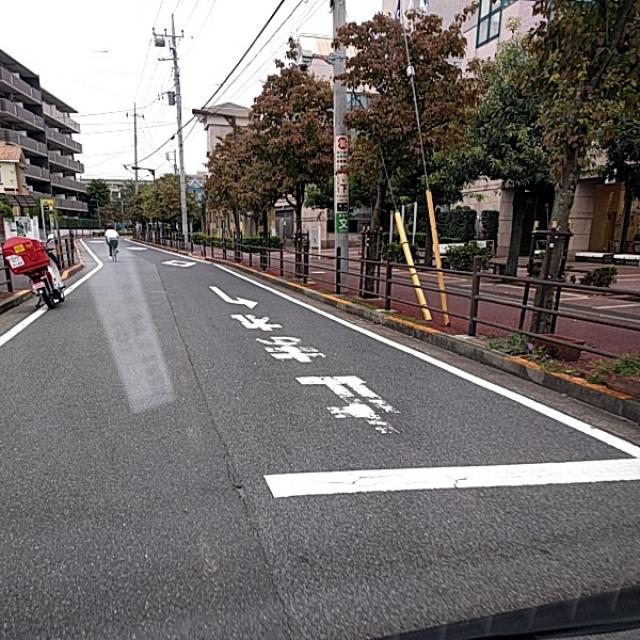pothole: (207, 438, 278, 548)
